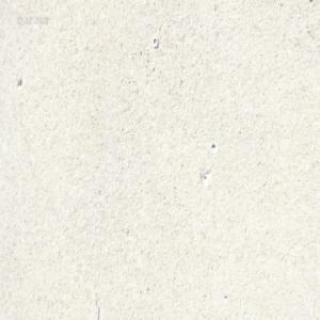Washertrack_idkeyframe: (151, 36, 158, 48)
